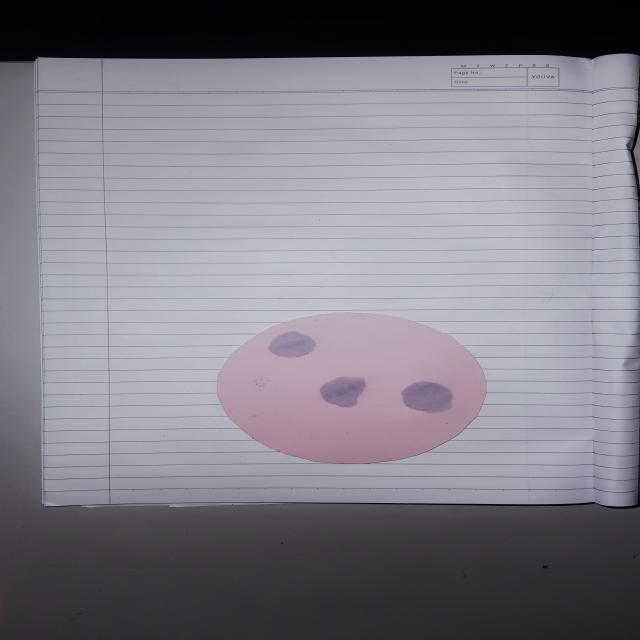BlueColor: (401, 381, 453, 413), (320, 377, 365, 408), (269, 331, 315, 358)
